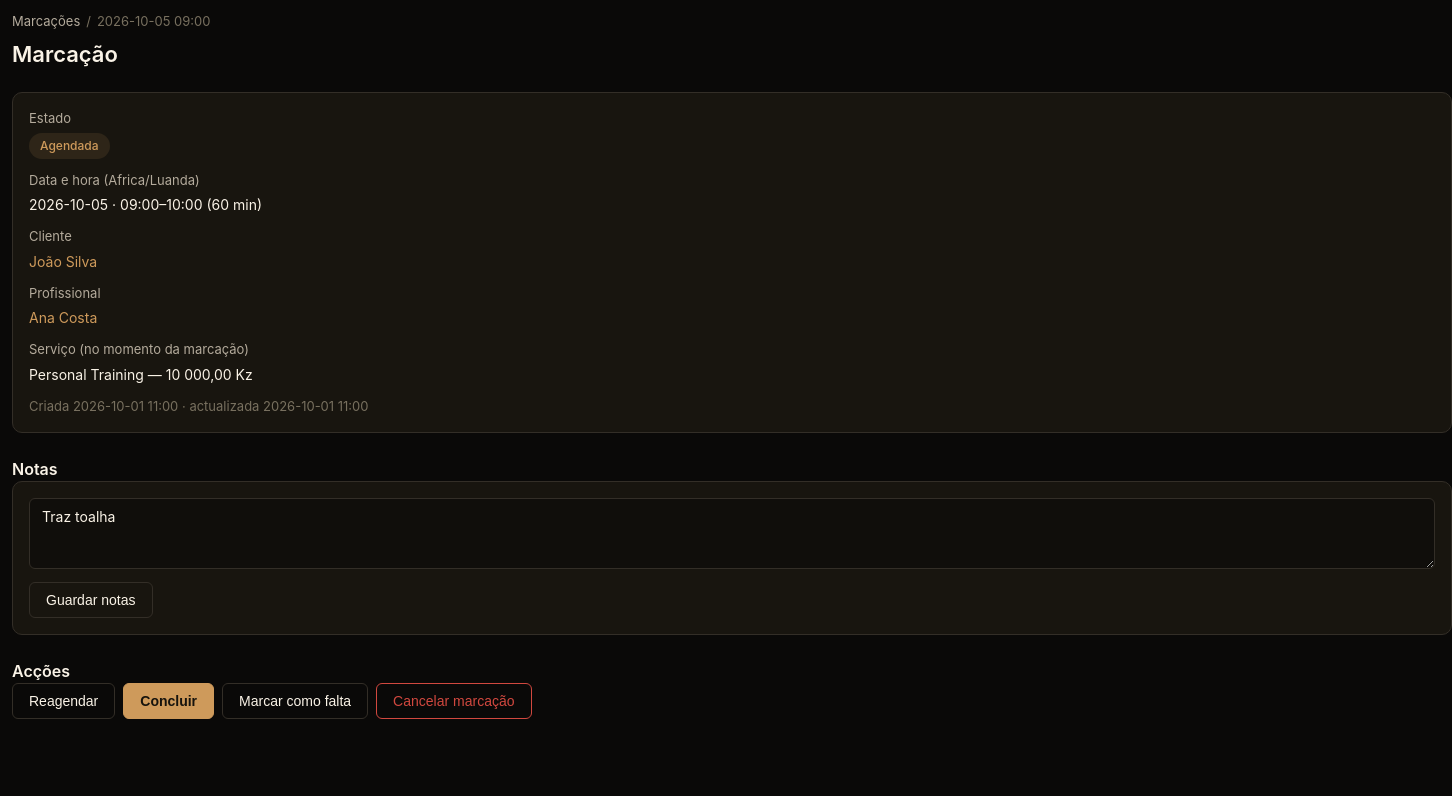
Test case: Appointment detail — NO_SHOW (F28B, ADR-048) › too early (server decides): explained in pt-PT, and the appointment is reloaded from the server
Click the button "Marcar como falta".
click(295, 701)  # box left=222, top=683, right=368, bottom=719
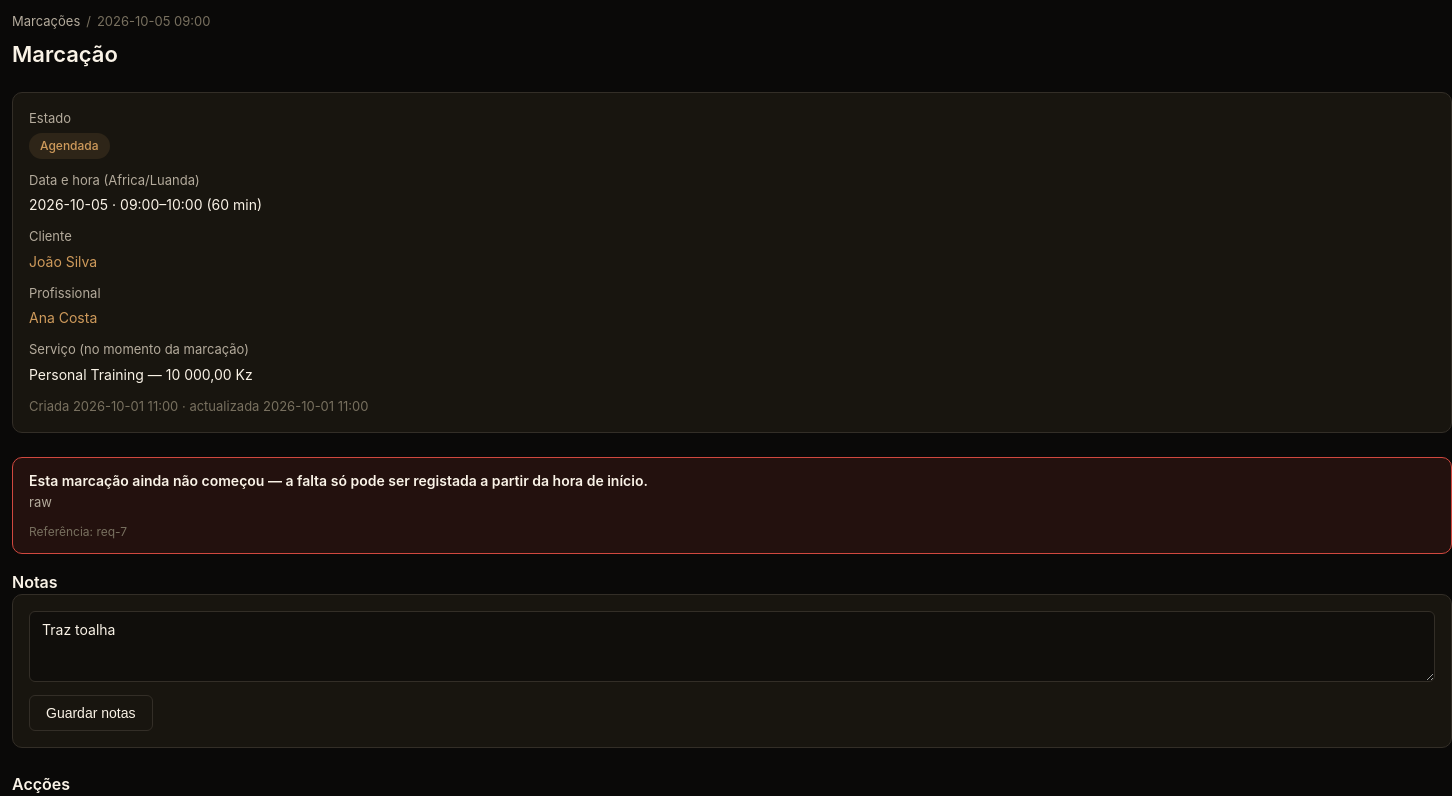
Expected: the text "Agendada" is shown, left=29, top=133, right=110, bottom=159
Expected: the text "a falta só pode ser registada a partir da hora de início" is shown, left=29, top=472, right=648, bottom=489
Expected: the text "Referência: req-7" is shown, left=29, top=524, right=127, bottom=539
